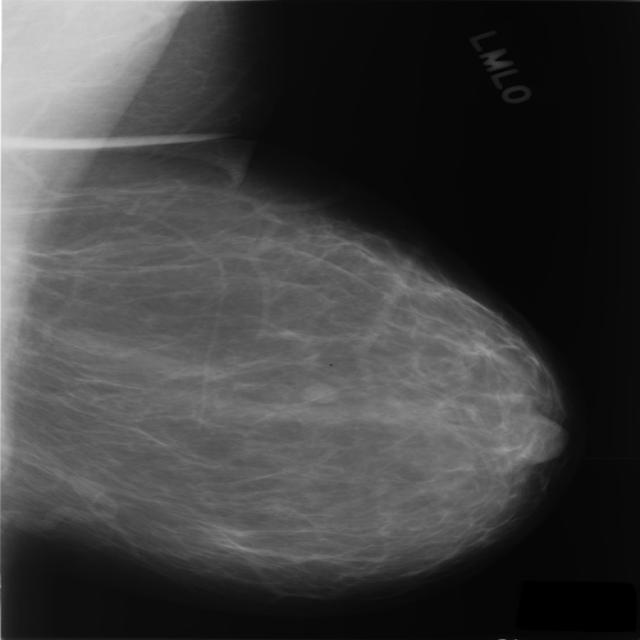tumour: (298, 380, 337, 402)
